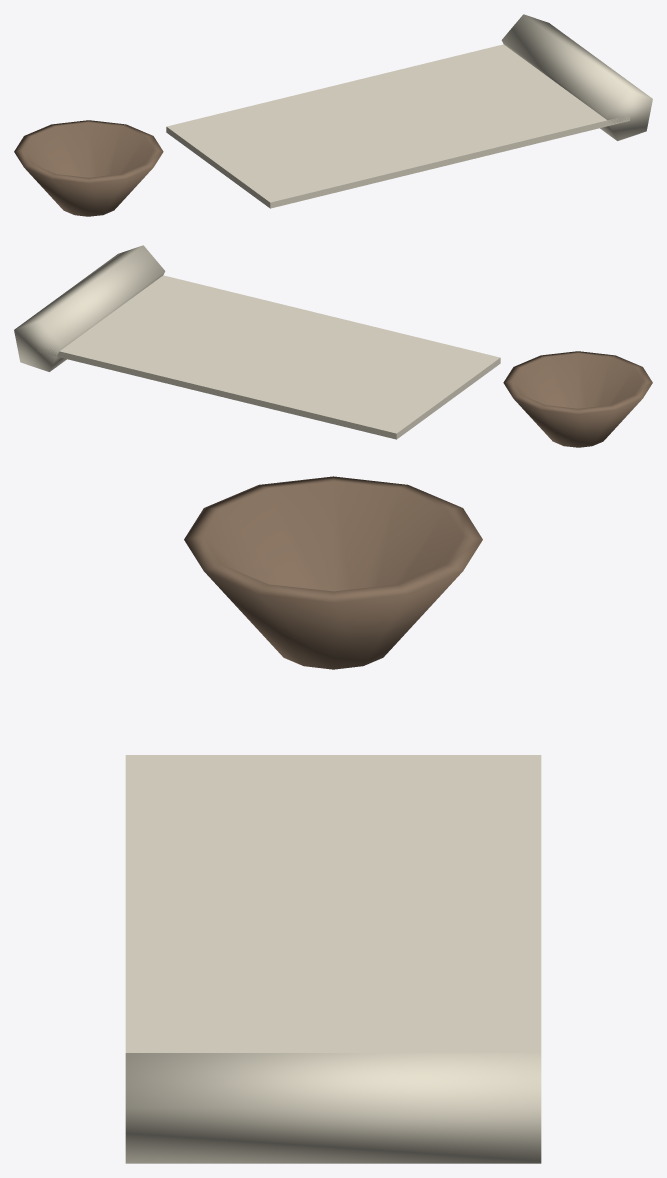
Rendered from tea-bowl-scroll.mobile.glb.
3 renders of one model, top to bottom at view 1: azimuth 30°, elevation 25°; view 2: azimuth 150°, elevation 25°; view 3: azimuth 270°, elevation 25°, orthographic. The views are drawn at different scales.
Visible parts, largest first — view 1: SA_T03_MESH_01, SA_T03_MESH_00, SA_T03_MESH_02; view 2: SA_T03_MESH_01, SA_T03_MESH_00, SA_T03_MESH_02; view 3: SA_T03_MESH_01, SA_T03_MESH_02, SA_T03_MESH_00.
Part boxes in pixels (left/top/right/bottom): SA_T03_MESH_01: left=166, top=44, right=629, bottom=208; SA_T03_MESH_00: left=14, top=120, right=163, bottom=216; SA_T03_MESH_02: left=501, top=14, right=652, bottom=140; SA_T03_MESH_01: left=37, top=275, right=500, bottom=439; SA_T03_MESH_00: left=503, top=351, right=652, bottom=447; SA_T03_MESH_02: left=14, top=245, right=165, bottom=371; SA_T03_MESH_01: left=125, top=755, right=541, bottom=1052; SA_T03_MESH_02: left=125, top=1053, right=541, bottom=1163; SA_T03_MESH_00: left=184, top=476, right=482, bottom=669.
Bounding box in the file's own units: 0.8018 × 0.092 × 0.25.
Materials: 2 (1 with a texture image).
